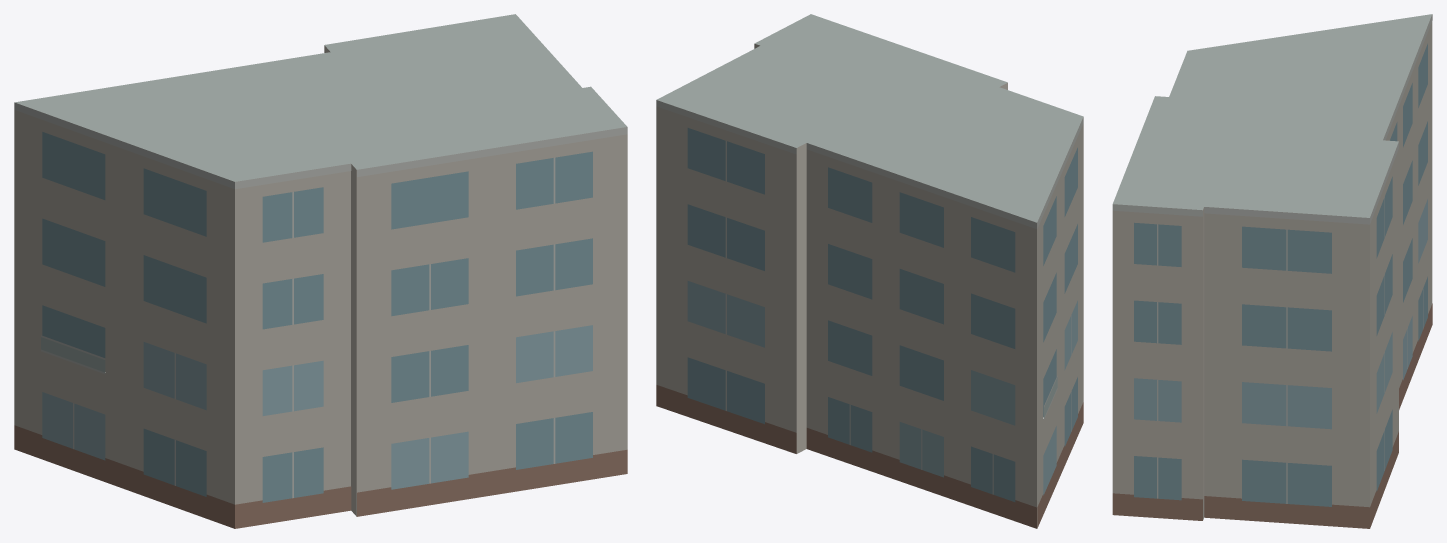
Rendered from survey-upis-32986105.glb.
The picture shows the model from 3 angles, left to right: view 1: azimuth 30°, elevation 25°; view 2: azimuth 150°, elevation 25°; view 3: azimuth 270°, elevation 25°; orthographic projection. The views are drawn at different scales.
Parts seen in each view (by area): view 1: survey-upis-32986105.tmp; view 2: survey-upis-32986105.tmp; view 3: survey-upis-32986105.tmp.
Part boxes in pixels (x1,y1,x2,y2): survey-upis-32986105.tmp: (14, 14, 627, 528); survey-upis-32986105.tmp: (656, 14, 1083, 528); survey-upis-32986105.tmp: (1112, 14, 1432, 528).
Bounding box in the file's own units: 16.19 × 11.5 × 10.73.
